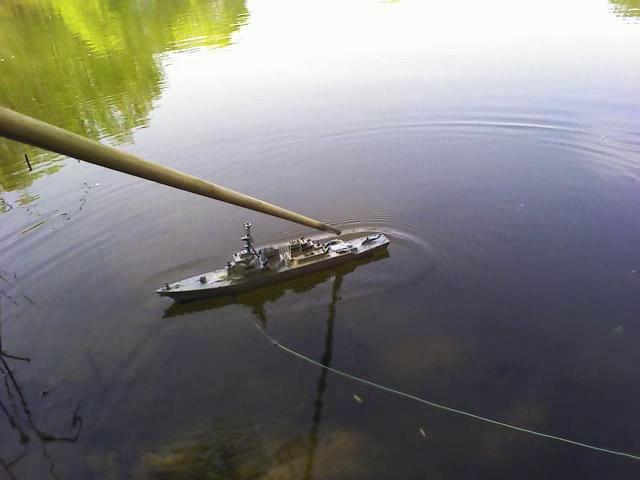warship: (137, 224, 395, 314)
